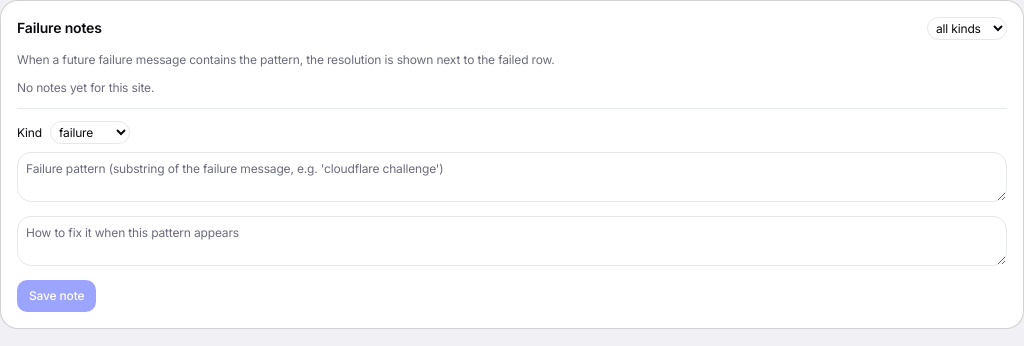
KnowledgeNotesPanel wires the dark knowledge/notes cluster › disables Save until pattern AND resolution are present (the real 400)
This screenshot has width=1024, height=346.
Expected: the button "Save note" is disabled, [17,280,96,312]
In the text box labelled "Failure pattern": (512, 177) [17,152,1007,202], type "captcha loop"
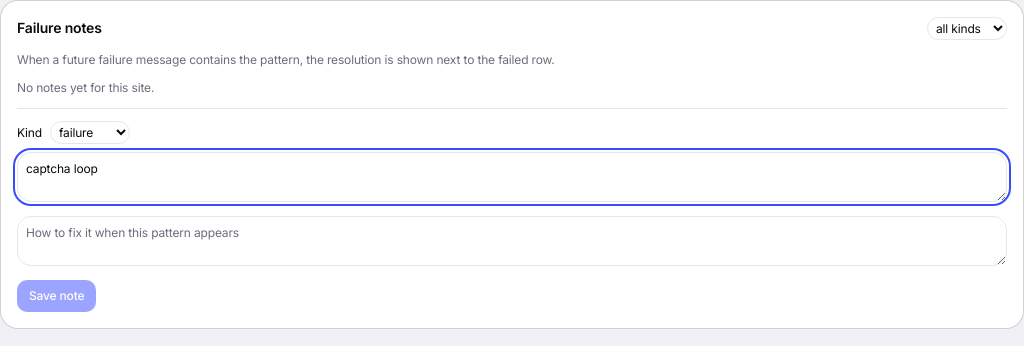
Expected: the button "Save note" is disabled, [17,280,96,312]
In the text box named "Resolution": (512, 241) [17,216,1007,266], type "cool down 10 min"
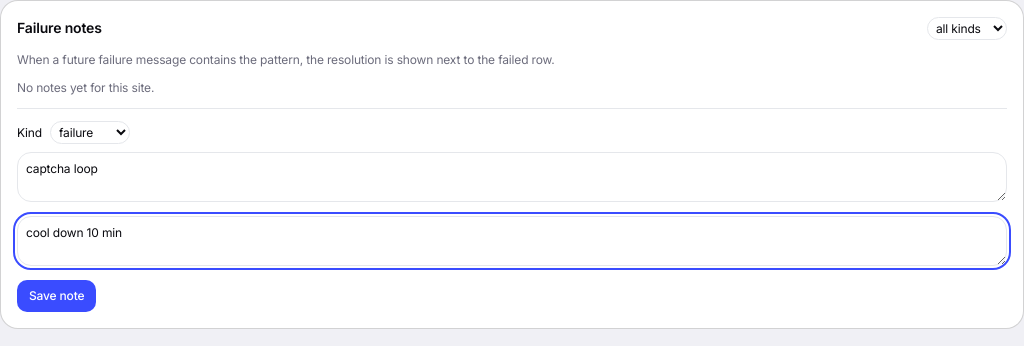
Now the button "Save note" is enabled, box [17,280,96,312]
